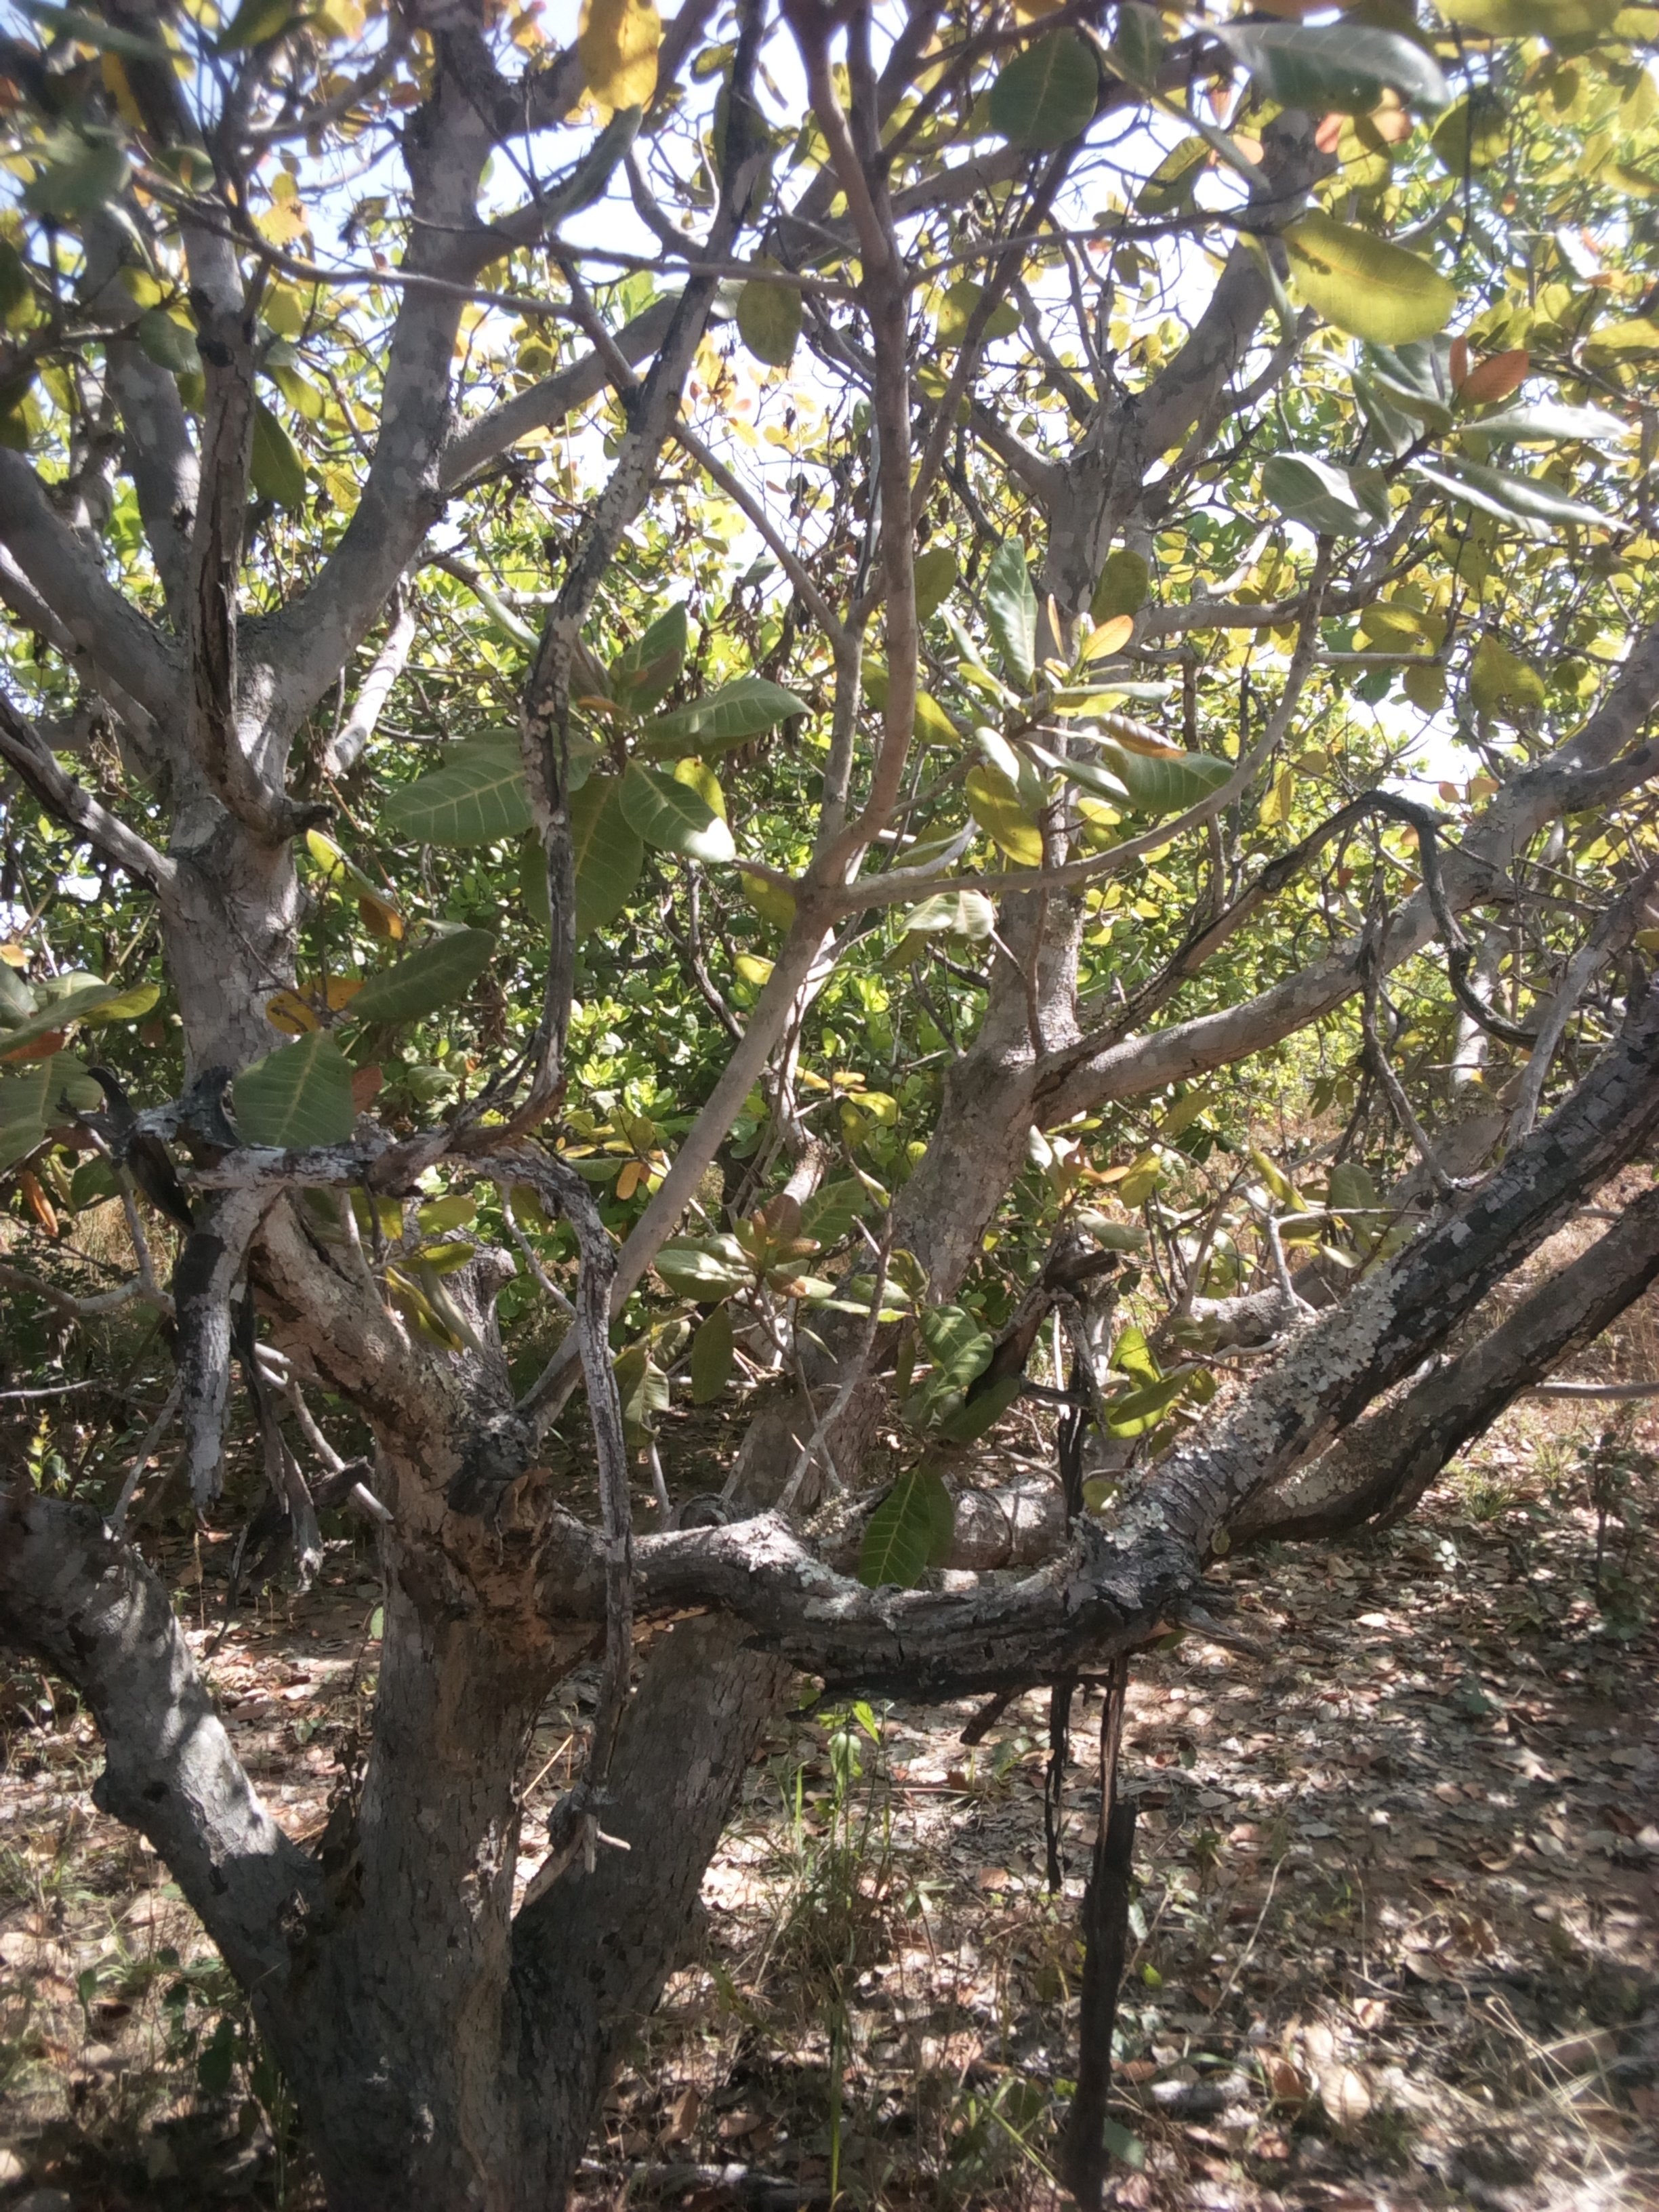Termites: (403, 1461, 549, 2184)
